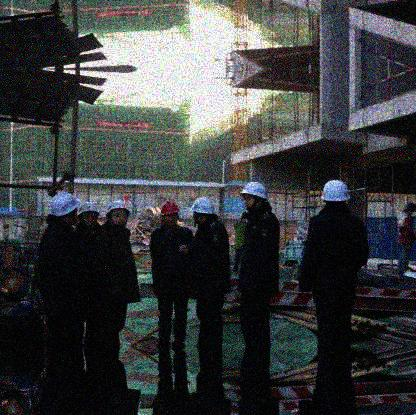helmet: (49, 193, 79, 225), (238, 180, 270, 207), (189, 197, 219, 225), (105, 202, 131, 225), (158, 203, 182, 227), (79, 202, 99, 224), (402, 202, 416, 217)
